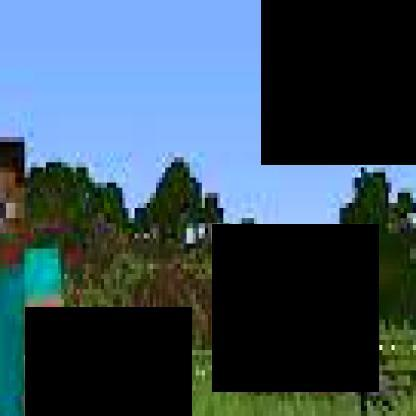minecraft-pigs: (0, 406, 83, 411)
